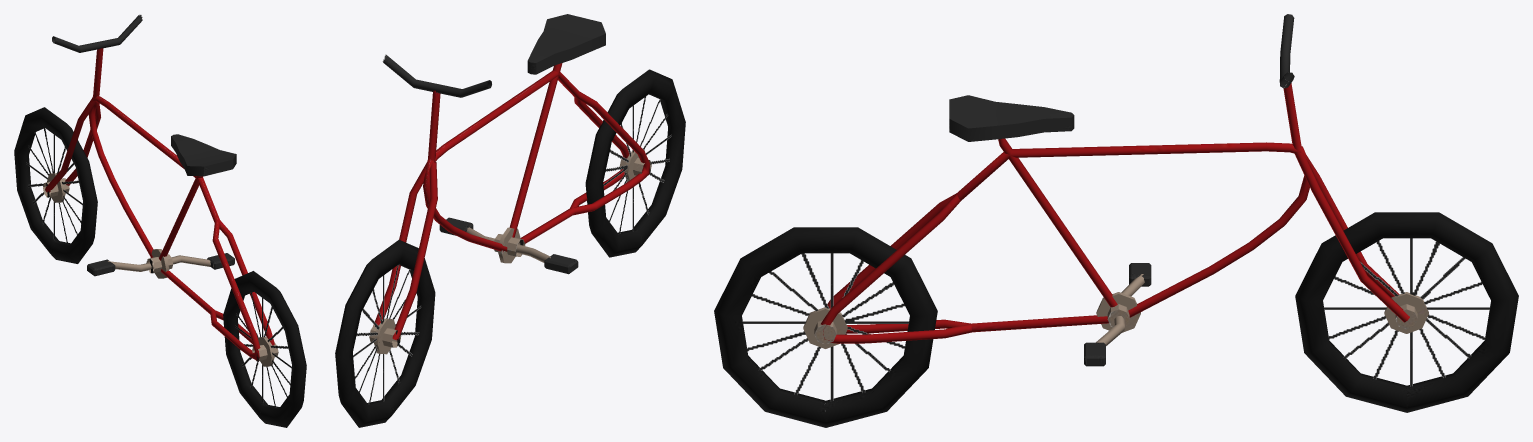
The model's file is Bike.FBX.
The picture shows the model from 3 angles, left to right: view 1: azimuth 30°, elevation 25°; view 2: azimuth 150°, elevation 25°; view 3: azimuth 270°, elevation 25°; orthographic projection. The views are drawn at different scales.
Parts seen in each view (by area): view 1: Line001; view 2: Line001; view 3: Line001.
Boxes of the visible parts, x1,y1,x2,y2 form: Line001: (14,14,306,427); Line001: (335,14,685,427); Line001: (714,14,1518,427).
Size of the model in its own units: 90.17 by 190 by 360.
